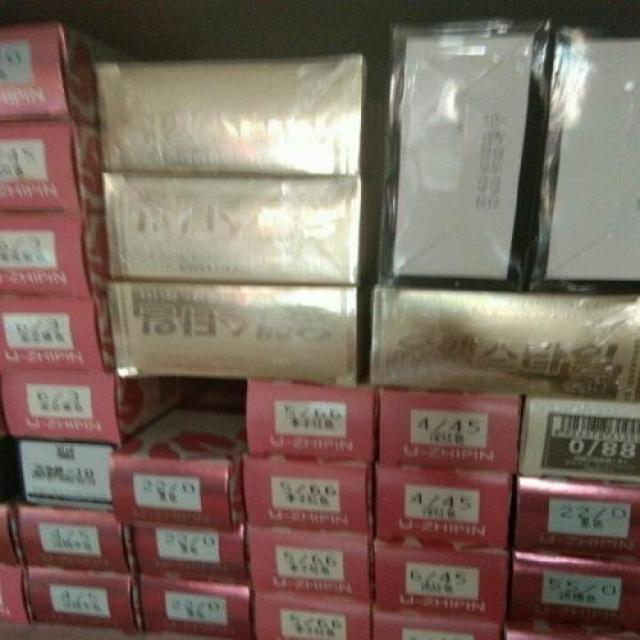box: (374, 18, 552, 292), (95, 53, 387, 176), (365, 285, 639, 403), (102, 171, 381, 286), (524, 28, 640, 293), (108, 282, 372, 388), (105, 406, 246, 531), (0, 369, 211, 447), (0, 20, 140, 128), (375, 386, 522, 476), (376, 464, 518, 552), (372, 539, 511, 625), (246, 378, 380, 462), (517, 395, 640, 484), (244, 456, 375, 539), (244, 524, 374, 607), (511, 476, 639, 559), (506, 552, 639, 630), (1, 119, 104, 216), (0, 213, 110, 301), (0, 293, 116, 375), (18, 504, 140, 573), (26, 569, 145, 636), (140, 574, 253, 639), (129, 524, 251, 584), (19, 438, 116, 513), (251, 596, 372, 640), (372, 608, 503, 640), (503, 615, 640, 640), (0, 564, 33, 627), (0, 504, 24, 569)
